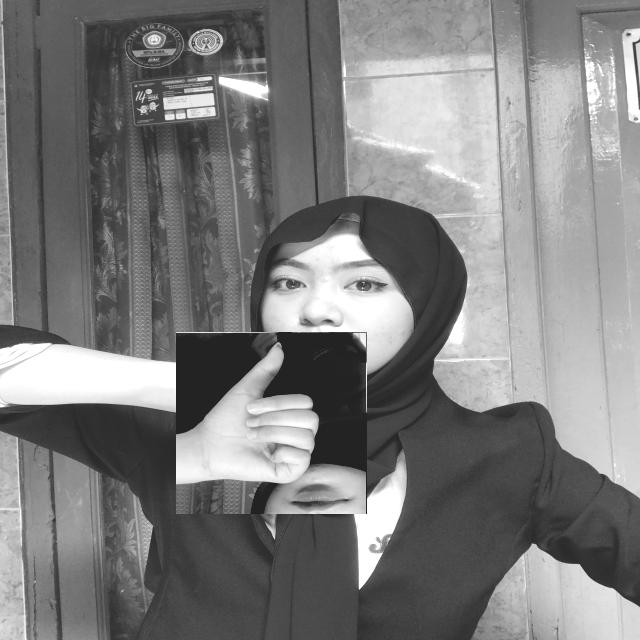sedih: (176, 332, 367, 514)
